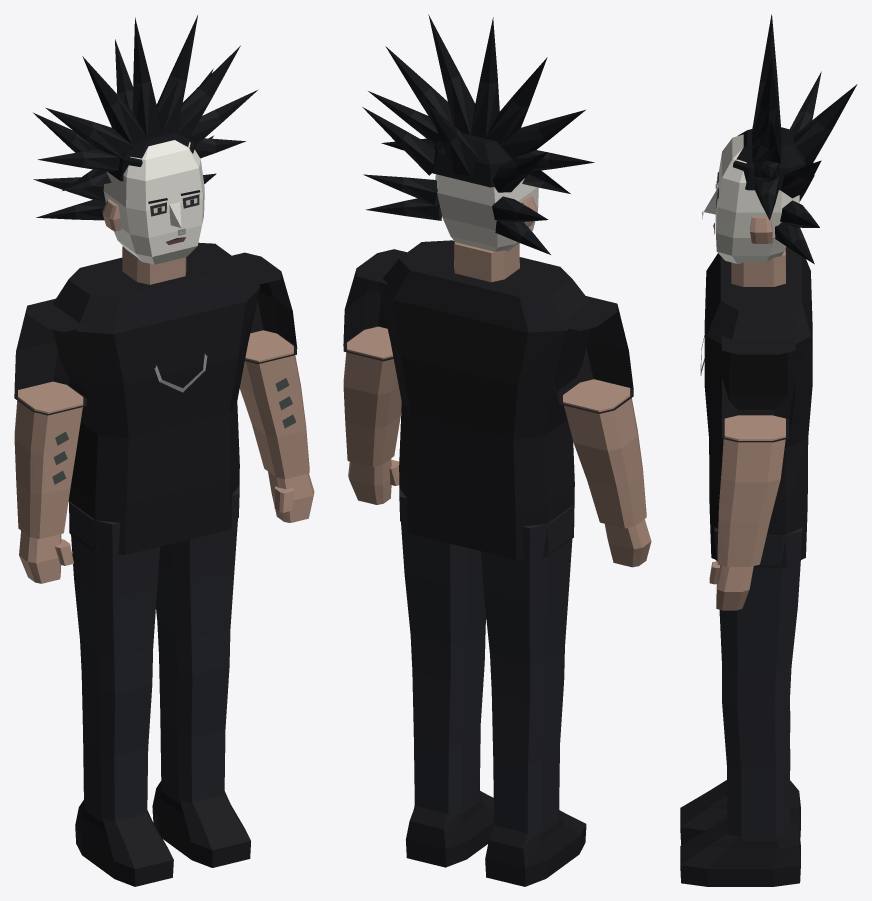
File: ganvest.glb
3 renders of one model, left to right at view 1: azimuth 30°, elevation 25°; view 2: azimuth 150°, elevation 25°; view 3: azimuth 270°, elevation 25°, orthographic. The views are drawn at different scales.
Parts seen in each view (by area): view 1: Ganvest_WhiteMakeup; view 2: Ganvest_WhiteMakeup; view 3: Ganvest_WhiteMakeup.
Boxes of the visible parts, x1,y1,x2,y2 form: Ganvest_WhiteMakeup: (14,15,314,886); Ganvest_WhiteMakeup: (343,14,651,886); Ganvest_WhiteMakeup: (680,14,857,886).
Size of the model in its own units: 0.742 by 2.04 by 0.394.
1 material, 1 textured.
